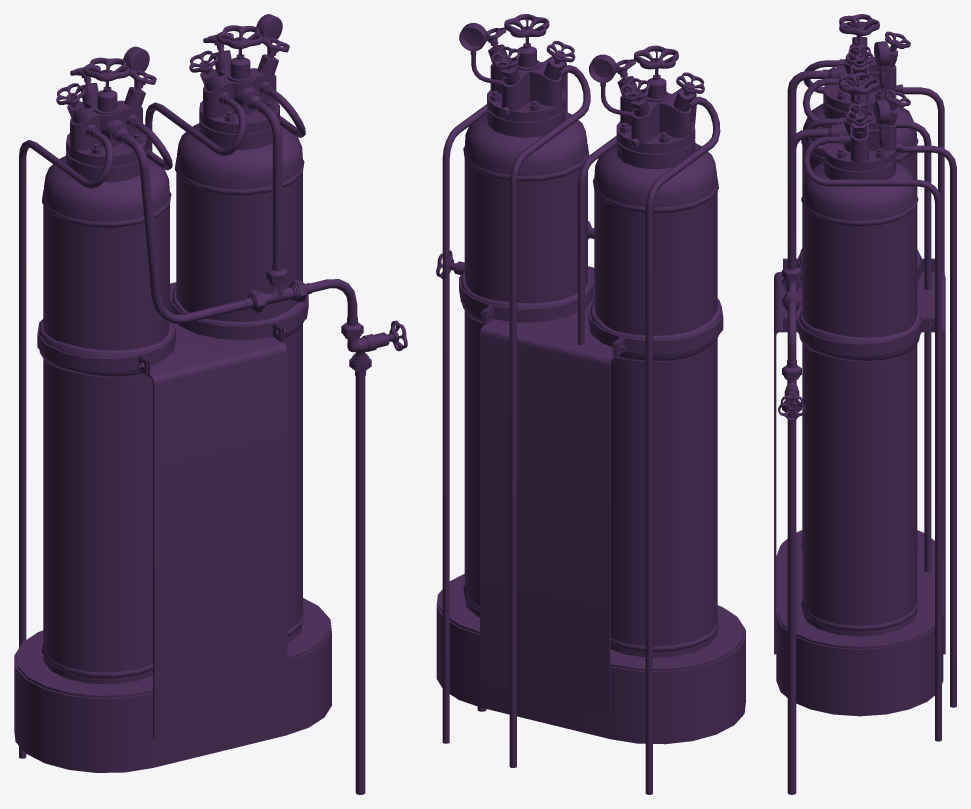
File: Engine11.fbx
3 views of the same model, side by side, from view 1: azimuth 30°, elevation 25°; view 2: azimuth 150°, elevation 25°; view 3: azimuth 270°, elevation 25° (orthographic). The views are drawn at different scales.
Parts seen in each view (by area): view 1: Stuff2.001; view 2: Stuff2.001; view 3: Stuff2.001.
Part boxes in pixels (x1,y1,x2,y2): Stuff2.001: (14,14,407,794); Stuff2.001: (436,14,745,794); Stuff2.001: (774,14,956,794).
Bounding box in the file's own units: 98.07 × 210 × 51.32.
